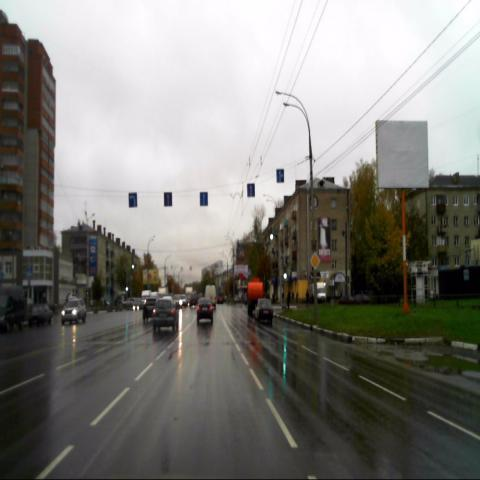2_1: (311, 253, 320, 269)
5_15_2: (129, 192, 137, 208), (164, 191, 172, 206), (276, 168, 284, 182), (247, 183, 255, 197), (200, 192, 208, 205)
